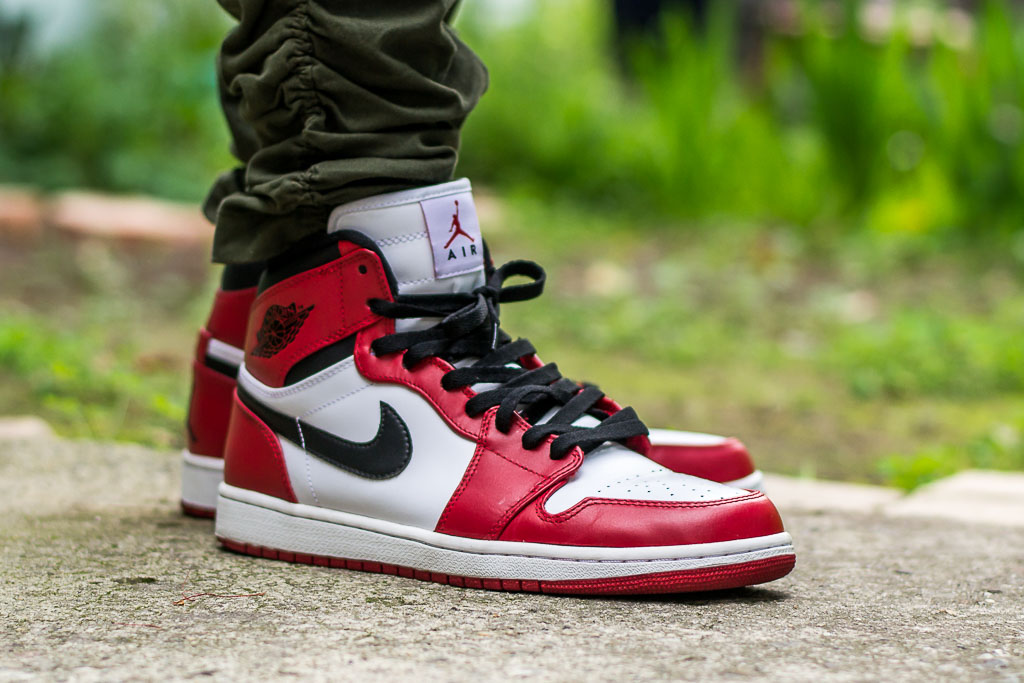Jordan 1: (209, 173, 803, 606)
